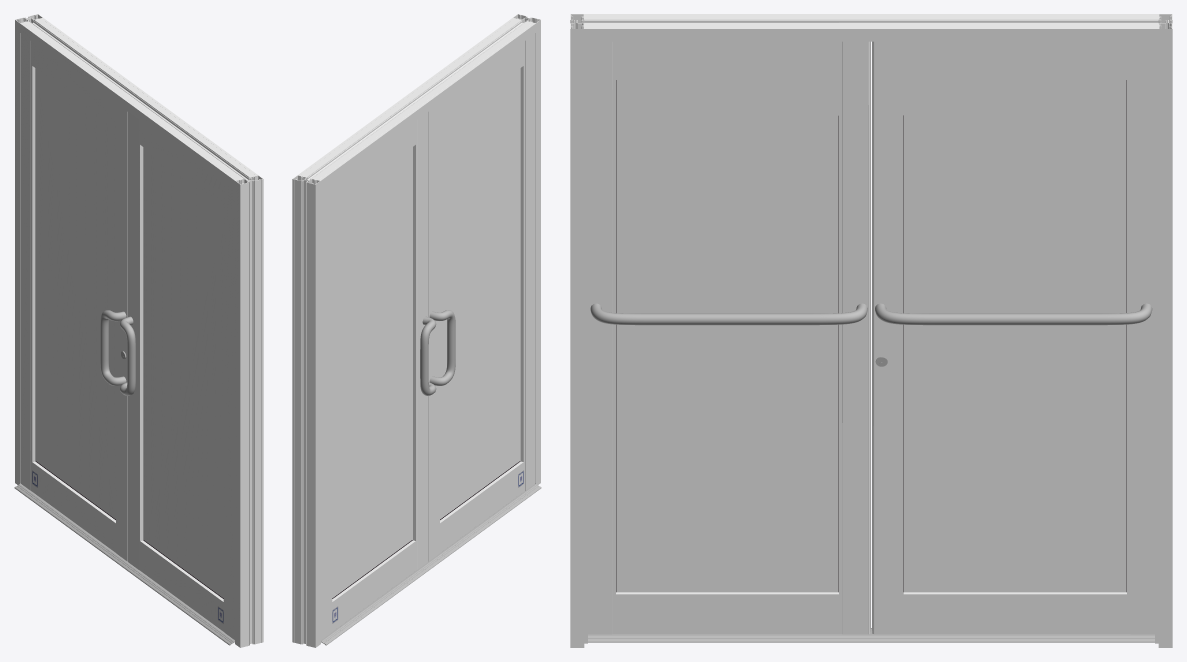
File: Framed_D350_Pair_Animated_WT.glb
The picture shows the model from 3 angles, left to right: view 1: azimuth 30°, elevation 25°; view 2: azimuth 150°, elevation 25°; view 3: azimuth 270°, elevation 25°; orthographic projection. The views are drawn at different scales.
Visible parts, largest first — view 1: D350.001, Cube.010, PROFILE_curve_.018, D350, PROFILE_curve_.019, PROFILE_curve_.063, PROFILE_curve_.014, PROFILE_curve_.008, PROFILE_curve_.023, PROFILE_curve_.062, PROFILE_curve_.016, PROFILE_curve_.061 (+2 smaller); view 2: D350.001, Cube.010, PROFILE_curve_.022, PROFILE_curve_.063, D350, PROFILE_curve_.023, PROFILE_curve_.014, PROFILE_curve_.008, PROFILE_curve_.019, PROFILE_curve_.062, PROFILE_curve_.016, PROFILE_curve_.061 (+2 smaller); view 3: D350.001, Cube.010, PROFILE_curve_.063, D350, PROFILE_curve_.008, PROFILE_curve_.023, PROFILE_curve_.019, PROFILE_curve_.062, PROFILE_curve_.014, PROFILE_curve_.061, PROFILE_curve_.016, NurbsPath.002 (+3 smaller).
Boxes of the visible parts, box(x1,y1,x2,y2) form: D350.001: box(128, 112, 234, 639); Cube.010: box(35, 68, 115, 519); PROFILE_curve_.018: box(242, 179, 260, 647); D350: box(20, 33, 35, 491); PROFILE_curve_.019: box(235, 175, 263, 647); PROFILE_curve_.063: box(116, 103, 127, 561); PROFILE_curve_.014: box(23, 18, 255, 180); PROFILE_curve_.008: box(20, 18, 257, 189); PROFILE_curve_.023: box(15, 14, 42, 484); PROFILE_curve_.062: box(32, 461, 115, 552); PROFILE_curve_.016: box(14, 484, 234, 645); PROFILE_curve_.061: box(32, 42, 115, 126); D350.001: box(428, 33, 535, 561); Cube.010: box(332, 147, 412, 597); PROFILE_curve_.022: box(295, 179, 313, 647); PROFILE_curve_.063: box(413, 112, 427, 570); D350: box(321, 182, 332, 639); PROFILE_curve_.023: box(292, 175, 320, 647); PROFILE_curve_.014: box(300, 18, 532, 180); PROFILE_curve_.008: box(298, 18, 535, 189); PROFILE_curve_.019: box(513, 14, 540, 484); PROFILE_curve_.062: box(332, 540, 415, 631); PROFILE_curve_.016: box(321, 484, 541, 645); PROFILE_curve_.061: box(332, 121, 415, 205); D350.001: box(588, 41, 870, 634); Cube.010: box(903, 65, 1126, 592); PROFILE_curve_.063: box(872, 41, 903, 634); D350: box(1127, 41, 1154, 634); PROFILE_curve_.008: box(584, 14, 1158, 41); PROFILE_curve_.023: box(1158, 14, 1172, 647); PROFILE_curve_.019: box(570, 14, 584, 647); PROFILE_curve_.062: box(903, 592, 1126, 633); PROFILE_curve_.014: box(584, 15, 1158, 27); PROFILE_curve_.061: box(903, 41, 1126, 64); PROFILE_curve_.016: box(588, 628, 1154, 642); NurbsPath.002: box(590, 303, 867, 325).
Bounding box in the file's own units: 0.2107 × 2.18 × 1.92.
Materials: 6 (1 with a texture image).
